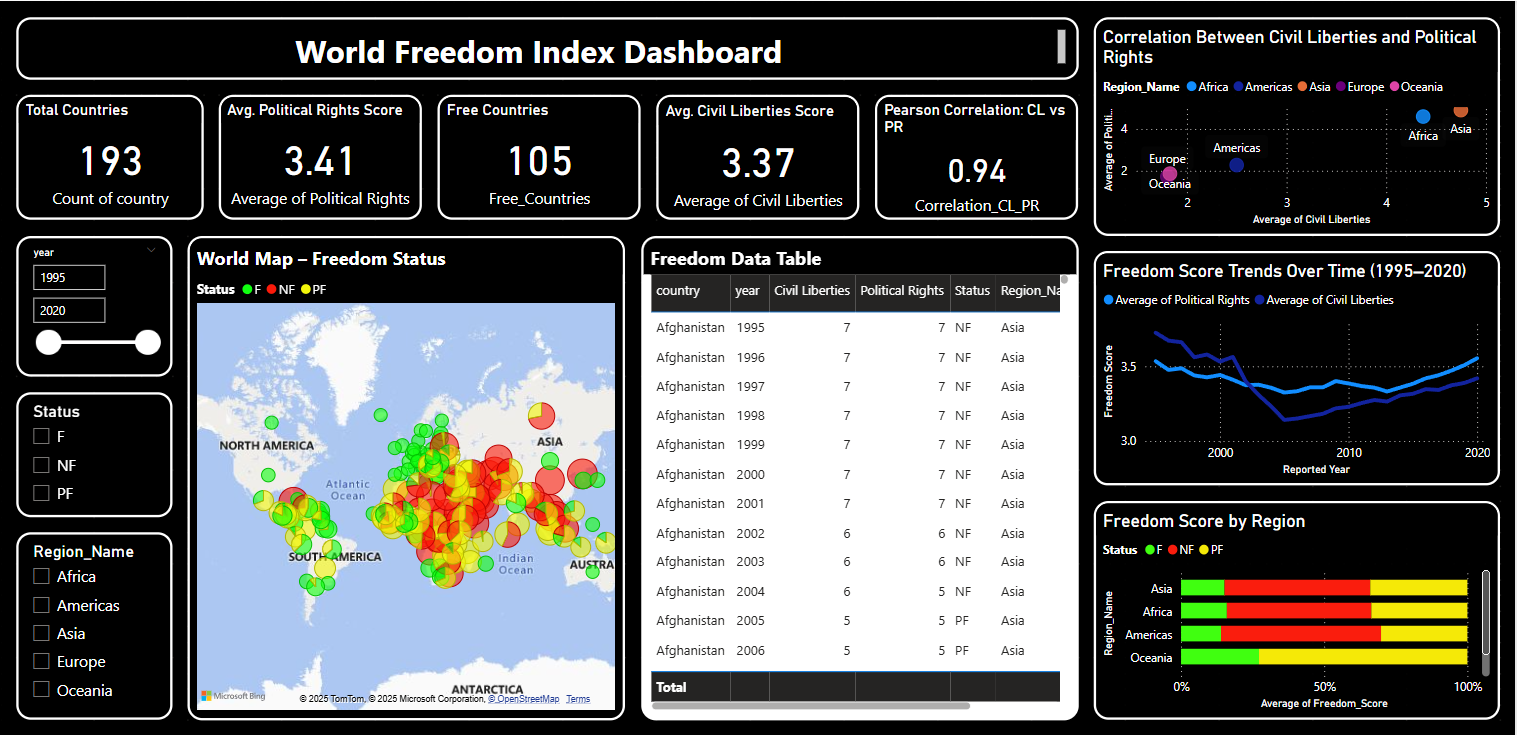

The dashboard page shown, as its layout file describes it:
{"tool":"powerbi","page":{"name":"Page 3","canvas":[1348,723],"ordinal":0},"visuals":[{"type":"card","title":"Total Countries","fields":{"Values":["Count(freedom.country)"]},"box":[0,64,176,128],"z":0},{"type":"card","title":"Free Countries","fields":{"Values":["freedom.Free_Countries"]},"box":[368,64,176,128],"z":1000},{"type":"card","title":"Avg. Civil Liberties Score","fields":{"Values":["Avg(freedom.Civil Liberties)"]},"box":[544,64,192,128],"z":2000},{"type":"card","title":"Avg. Political Rights Score","fields":{"Values":["Avg(freedom.Political Rights)"]},"box":[176,64,192,128],"z":3000},{"type":"map","title":"World Map – Freedom Status","fields":{"Category":["freedom.country"],"Series":["freedom.Status"],"Size":["Sum(freedom.Freedom_Score)"]},"box":[176,192,368,528],"z":4000},{"type":"lineChart","title":"Freedom Score Trends Over Time (1995–2020)","fields":{"Category":["freedom.year"],"Y":["Avg(freedom.Political Rights)","Avg(freedom.Civil Liberties)"]},"box":[928,240,416,240],"z":5000},{"type":"hundredPercentStackedBarChart","title":"Freedom Score by Region","fields":{"Category":["freedom.Region_Name"],"Y":["Avg(freedom.Freedom_Score)"],"Series":["freedom.Status"]},"box":[928,480,416,240],"z":6000},{"type":"tableEx","title":"Freedom Data Table","fields":{"Values":["freedom.country","freedom.year","freedom.Civil Liberties","freedom.Political Rights","freedom.Status","freedom.Region_Name","Sum(freedom.is_ldc)"]},"box":[544,192,384,528],"z":7000},{"type":"slicer","fields":{"Values":["freedom.year"]},"box":[0,192,176,160],"z":8000},{"type":"slicer","fields":{"Values":["freedom.Region_Name"]},"box":[0,496,176,224],"z":9000},{"type":"slicer","fields":{"Values":["freedom.Status"]},"box":[0,352,176,144],"z":10000},{"type":"textbox","box":[0,0,928,64],"z":11000},{"type":"scatterChart","title":"Correlation Between Civil Liberties and Political Rights","fields":{"X":["Avg(freedom.Civil Liberties)"],"Y":["Avg(freedom.Political Rights)"],"Series":["freedom.Region_Name"]},"box":[928,0,416,240],"z":11001},{"type":"card","title":"Pearson Correlation: CL vs PR","fields":{"Values":["freedom.Correlation_CL_PR"]},"box":[736,64,192,128],"z":11002}]}

Visuals, with their boxes in screenshot pixels (x1, y1, x2, y2):
"Total Countries" card: <box>194,74,364,197</box>
"Free Countries" card: <box>549,74,719,197</box>
"Avg. Civil Liberties Score" card: <box>719,74,905,197</box>
"Avg. Political Rights Score" card: <box>364,74,549,197</box>
"World Map – Freedom Status" map: <box>364,197,719,708</box>
"Freedom Score Trends Over Time (1995–2020)" lineChart: <box>1091,244,1493,476</box>
"Freedom Score by Region" hundredPercentStackedBarChart: <box>1091,476,1493,708</box>
"Freedom Data Table" tableEx: <box>719,197,1091,708</box>
slicer - freedom.year: <box>194,197,364,352</box>
slicer - freedom.Region_Name: <box>194,491,364,708</box>
slicer - freedom.Status: <box>194,352,364,491</box>
textbox: <box>194,12,1091,74</box>
"Correlation Between Civil Liberties and Political Rights" scatterChart: <box>1091,12,1493,244</box>
"Pearson Correlation: CL vs PR" card: <box>905,74,1091,197</box>
